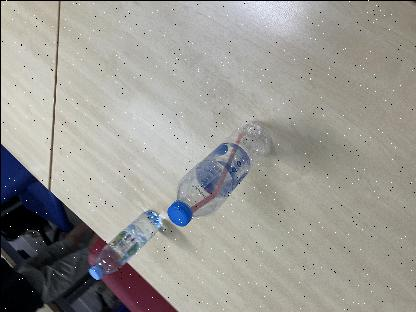Plastic Bottle: (166, 120, 272, 227), (87, 208, 161, 280)
